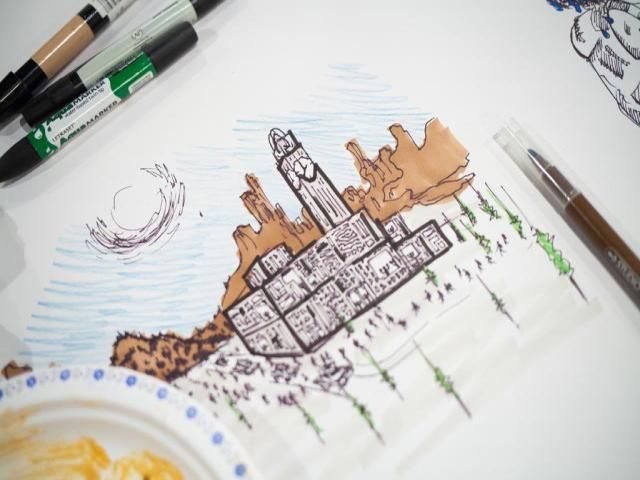PEN: (495, 121, 640, 347)
